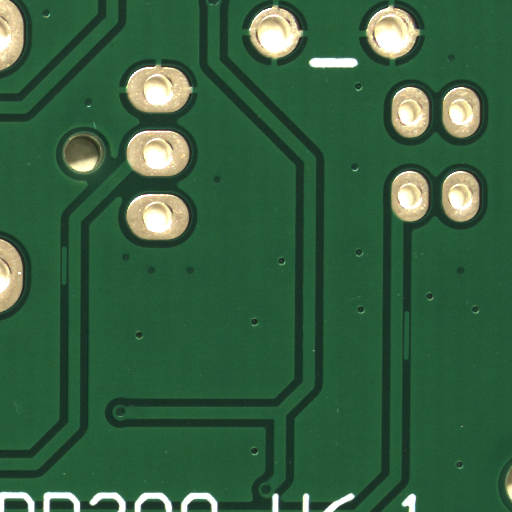Spurious_copper: (405, 335, 413, 388), (63, 264, 71, 307)
